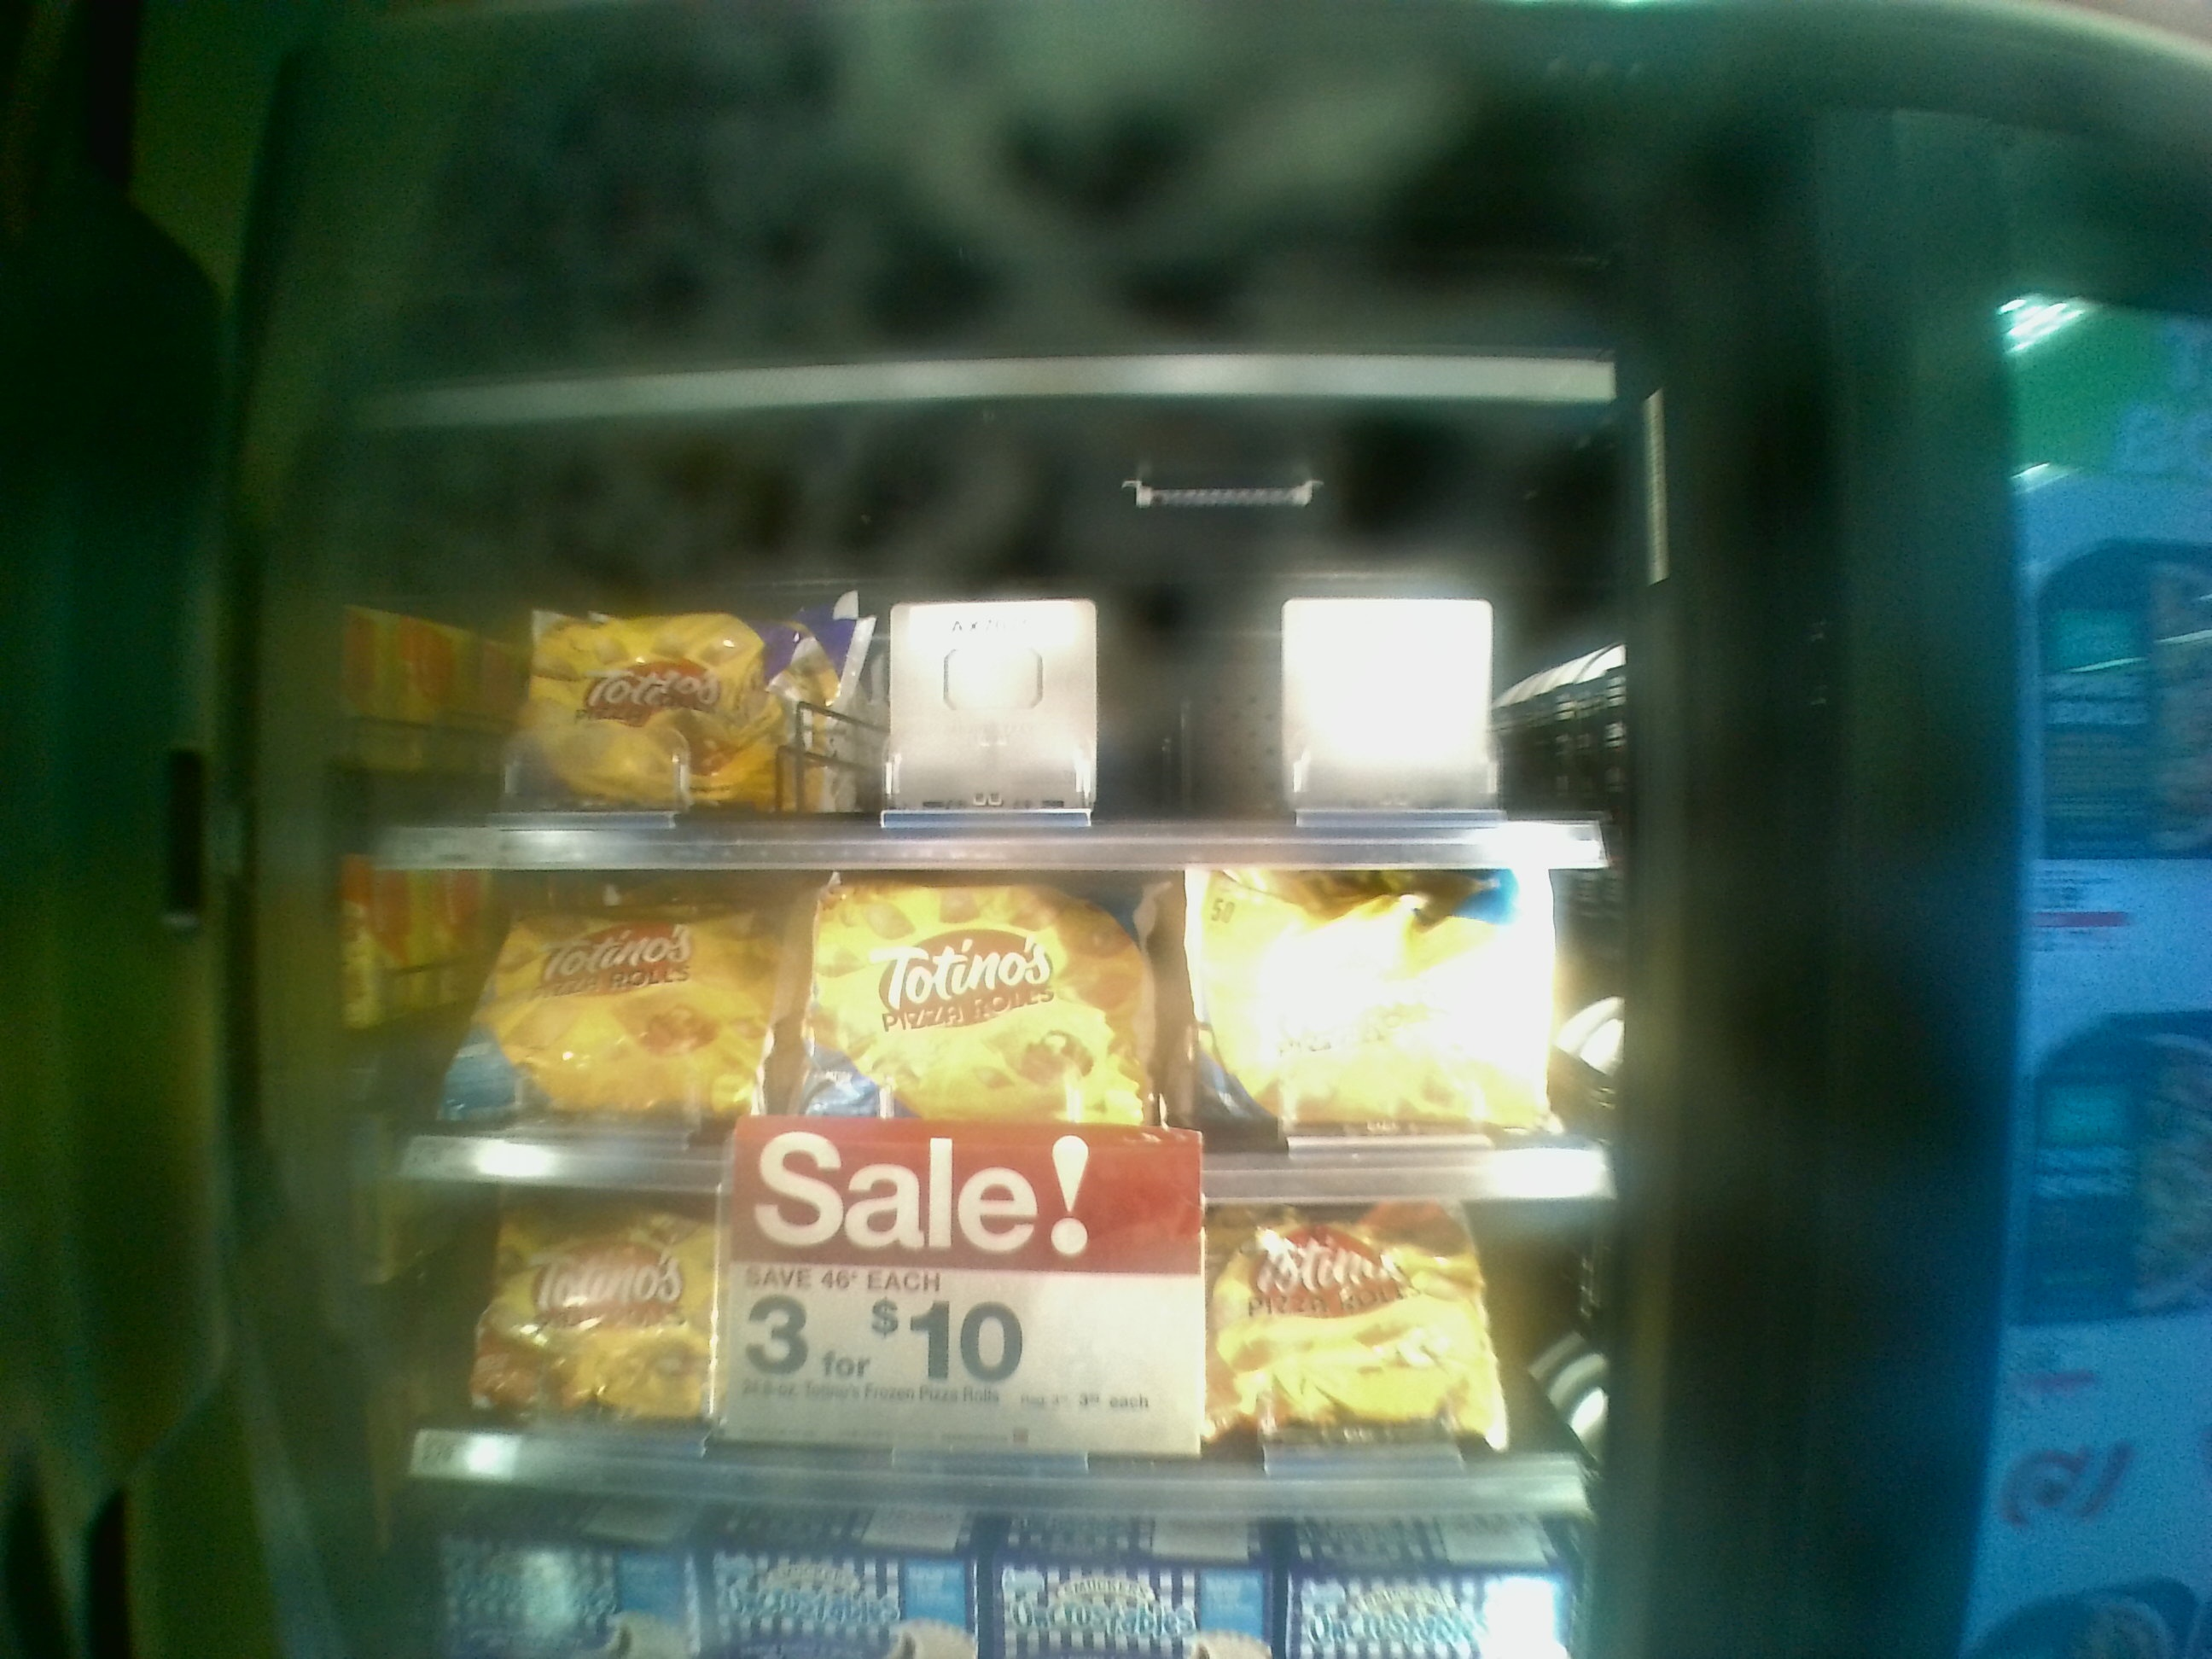shelf: (354, 450, 1615, 864), (388, 1157, 1615, 1495), (364, 854, 1604, 1185)
